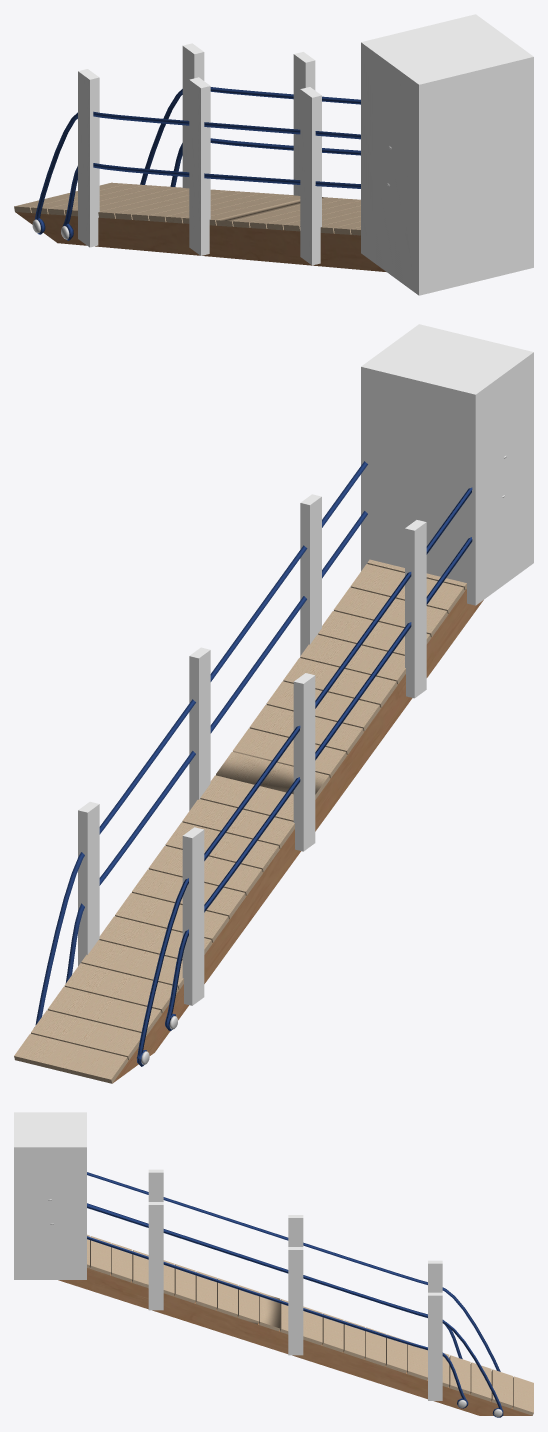
3 renders of one model, top to bottom at view 1: azimuth 30°, elevation 25°; view 2: azimuth 150°, elevation 25°; view 3: azimuth 270°, elevation 25°, orthographic. The views are drawn at different scales.
Parts seen in each view (by area): view 1: joint,0,5, Plane001, Plane070.001, Plane070, Plane070_1; view 2: Plane070.001, joint,0,5, Plane001, Plane070_1, Plane070; view 3: Plane070.001, joint,0,5, Plane070, Plane001, Plane070_1.
Part boxes in pixels (bbox=[...]): joint,0,5: bbox=[361, 14, 533, 295]; Plane001: bbox=[78, 43, 321, 265]; Plane070.001: bbox=[14, 182, 360, 235]; Plane070: bbox=[15, 212, 385, 271]; Plane070_1: bbox=[35, 87, 360, 240]; Plane070.001: bbox=[14, 559, 466, 1083]; joint,0,5: bbox=[361, 324, 533, 605]; Plane001: bbox=[78, 494, 426, 1005]; Plane070_1: bbox=[35, 461, 472, 1066]; Plane070: bbox=[113, 589, 483, 1082]; Plane070.001: bbox=[87, 1234, 533, 1415]; joint,0,5: bbox=[14, 1112, 86, 1279]; Plane070: bbox=[58, 1267, 532, 1415]; Plane001: bbox=[148, 1169, 442, 1400]; Plane070_1: bbox=[87, 1172, 503, 1417].
Bounding box in the file's own units: 0.5779 × 2.05 × 3.56.
Materials: 6 (3 with a texture image).
